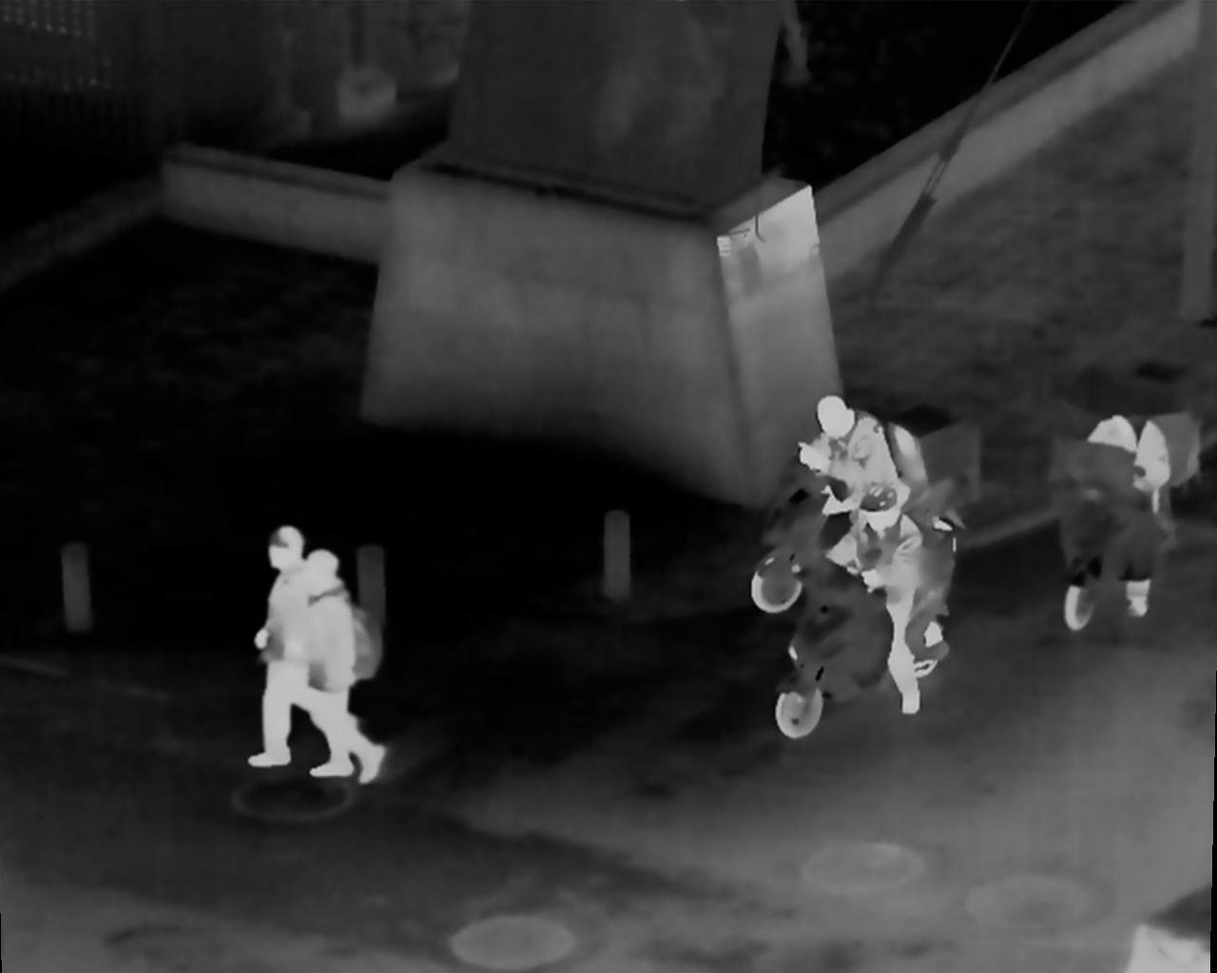person: (826, 475, 931, 719), (1084, 408, 1177, 636), (249, 527, 324, 764), (313, 545, 377, 796), (811, 393, 903, 559)
